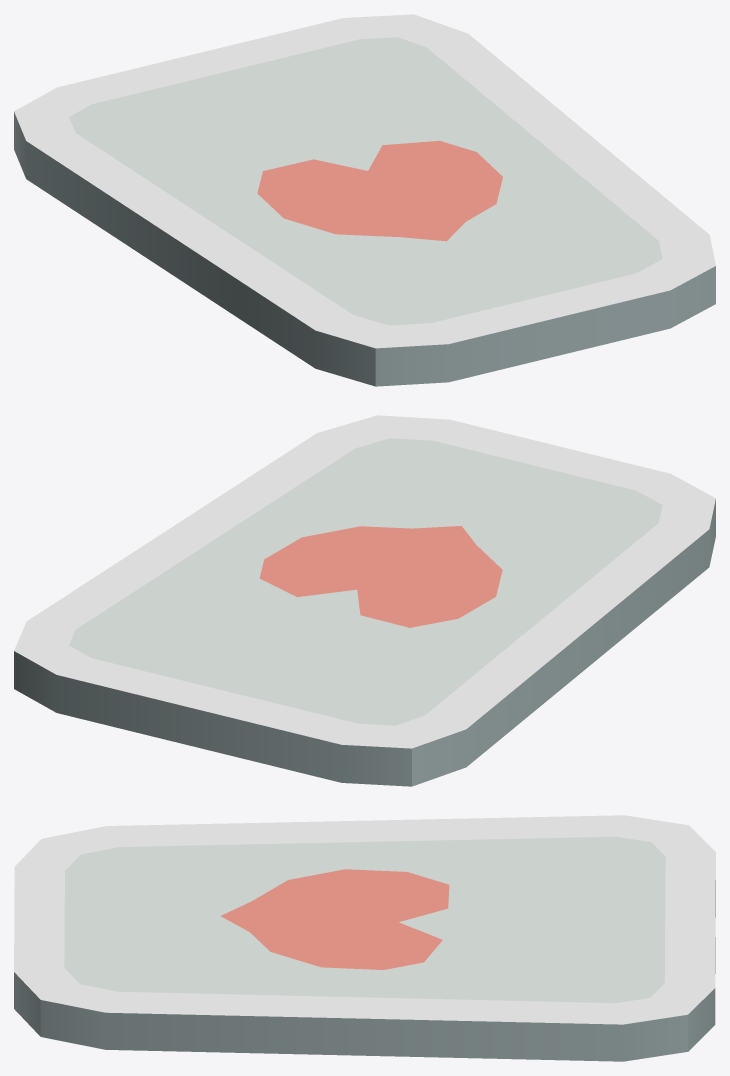
The model's file is Card_Heart.fbx.
3 views of the same model, one above another, from view 1: azimuth 30°, elevation 25°; view 2: azimuth 150°, elevation 25°; view 3: azimuth 270°, elevation 25° (orthographic). The views are drawn at different scales.
Visible parts, largest first — view 1: Heart; view 2: Heart; view 3: Heart.
Part boxes in pixels (<box>): Heart: <box>14,14,715,386</box>; Heart: <box>14,415,715,786</box>; Heart: <box>14,815,715,1061</box>.
Size of the model in its own units: 0.3103 by 0.4398 by 0.0257.
